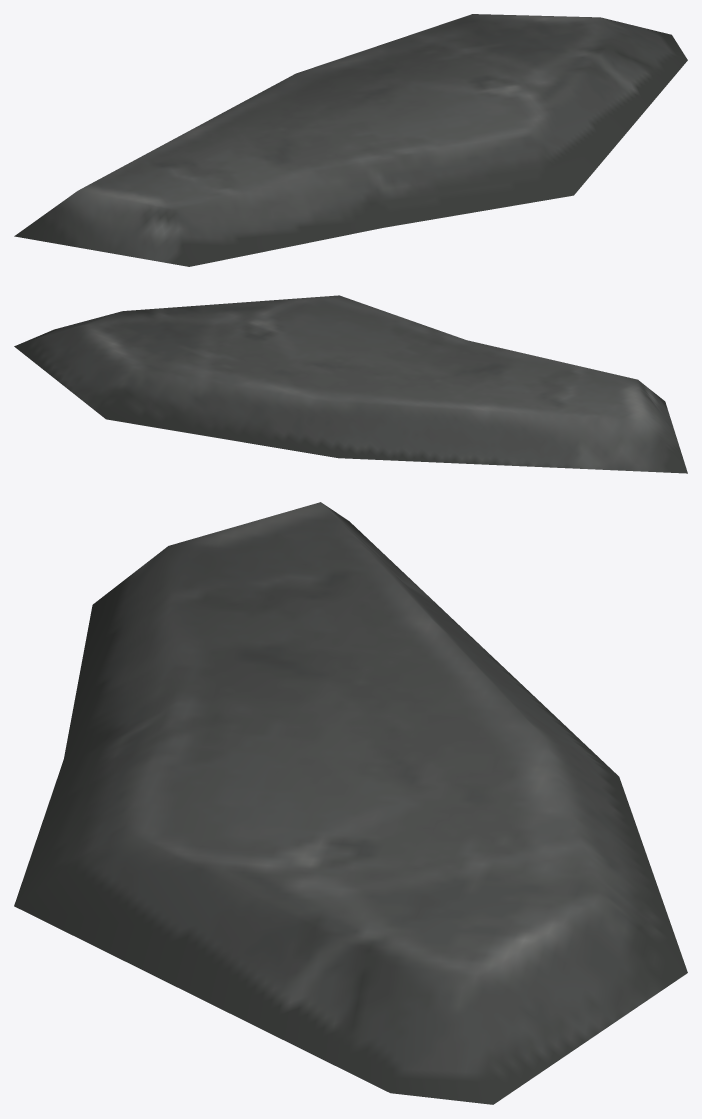
File: yw_zhaoze_stones_006.FBX
The picture shows the model from 3 angles, top to bottom: view 1: azimuth 30°, elevation 25°; view 2: azimuth 150°, elevation 25°; view 3: azimuth 270°, elevation 25°; orthographic projection. The views are drawn at different scales.
Parts seen in each view (by area): view 1: yw_zhaoze_stones_006; view 2: yw_zhaoze_stones_006; view 3: yw_zhaoze_stones_006.
Boxes of the visible parts, x1,y1,x2,y2 form: yw_zhaoze_stones_006: [14, 14, 687, 266]; yw_zhaoze_stones_006: [14, 295, 687, 473]; yw_zhaoze_stones_006: [14, 502, 687, 1104].
Size of the model in its own units: 569 by 278 by 29.73.
